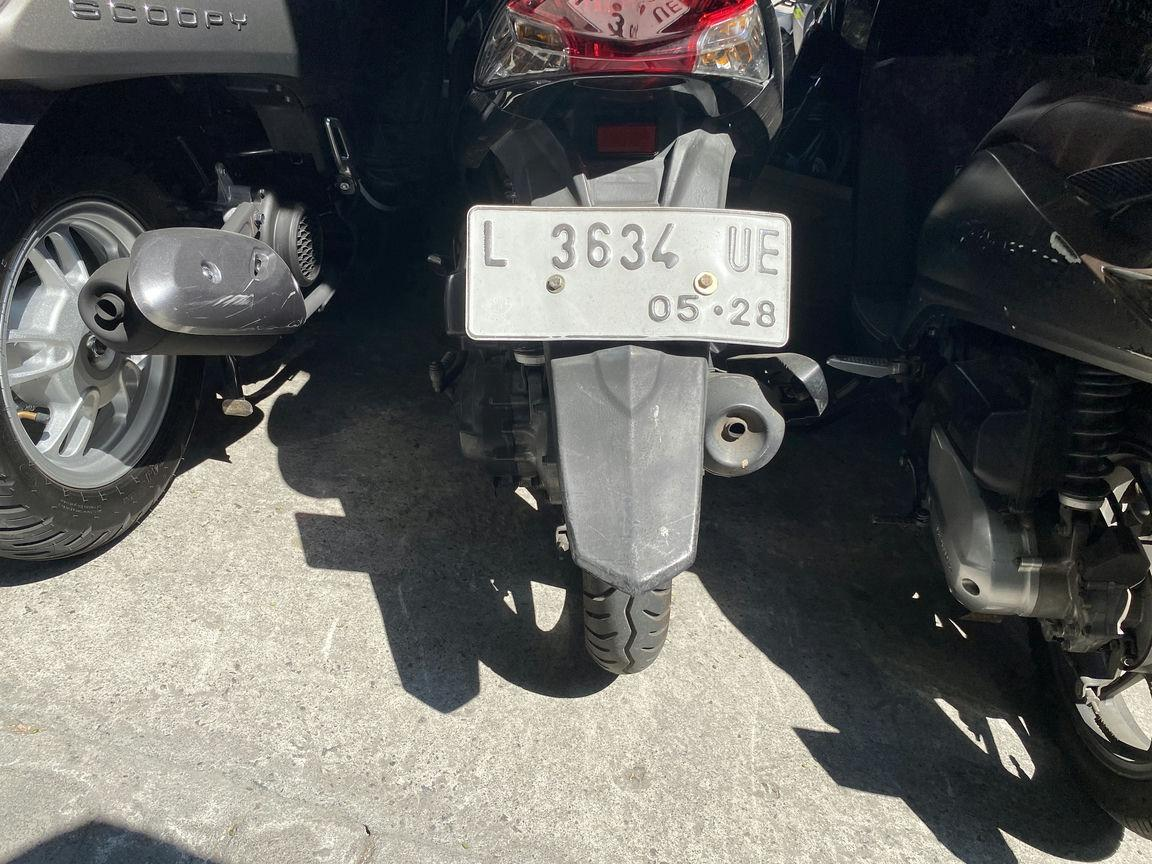plat: (466, 205, 792, 346)
